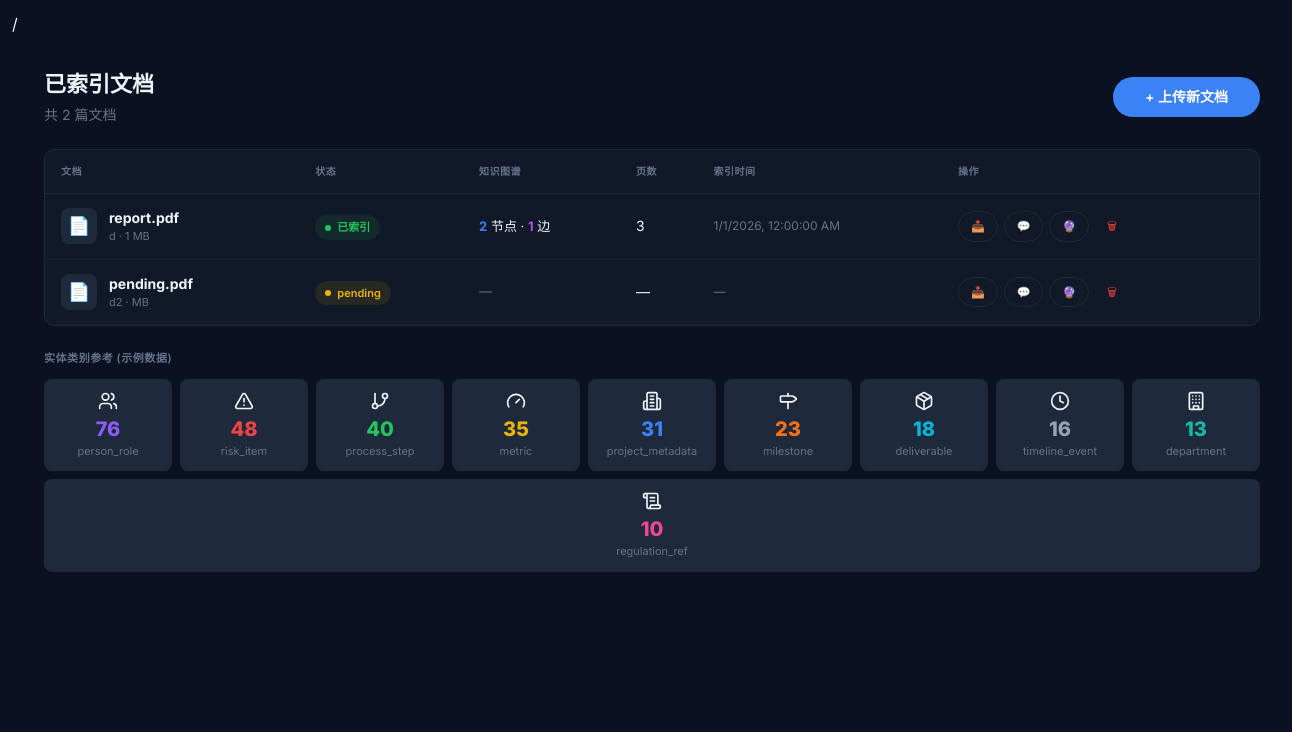
Test: documents retain status/null fields, delete and refresh the rendered listing
Check: the text "report.pdf" is shown, box [109,208,179,228]
Click the button titled "删除" in the row of "report.pdf" at (1112, 226), box [1095,211,1129,242]
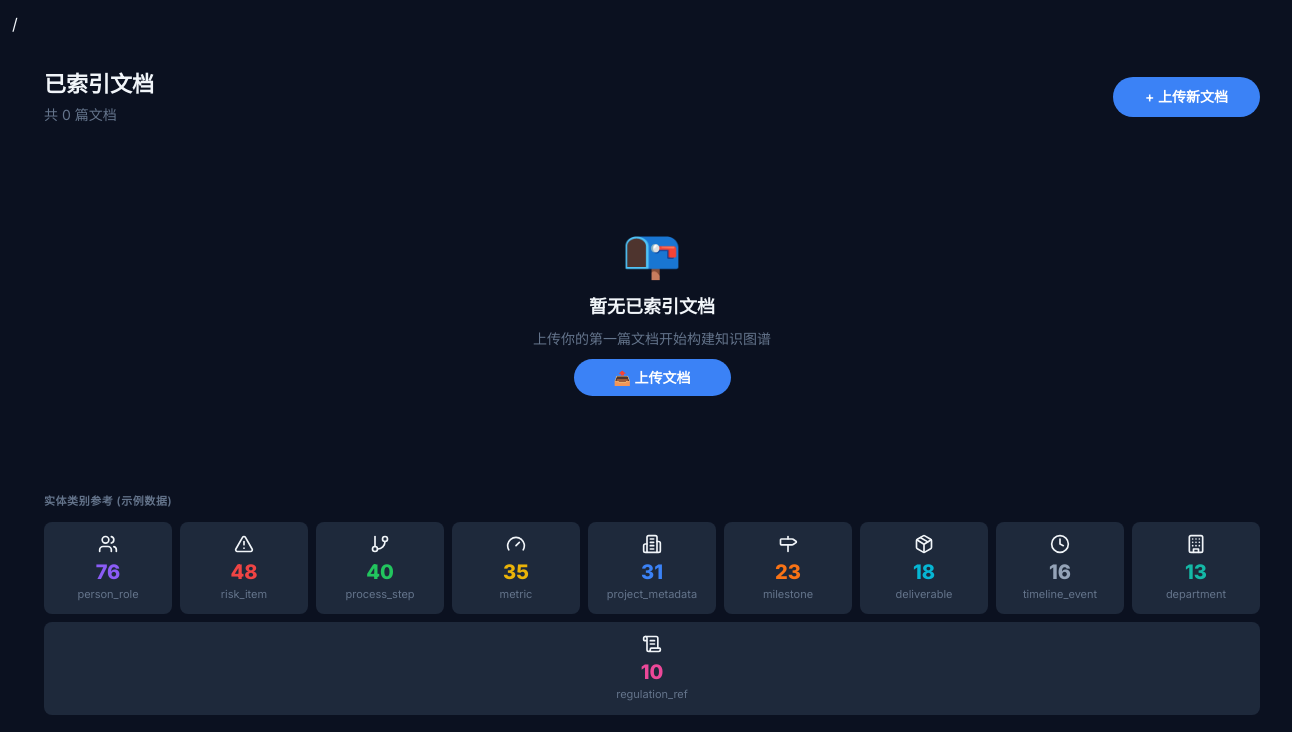
Check: the heading "暂无已索引文档" is shown, box [589,296,715,317]
